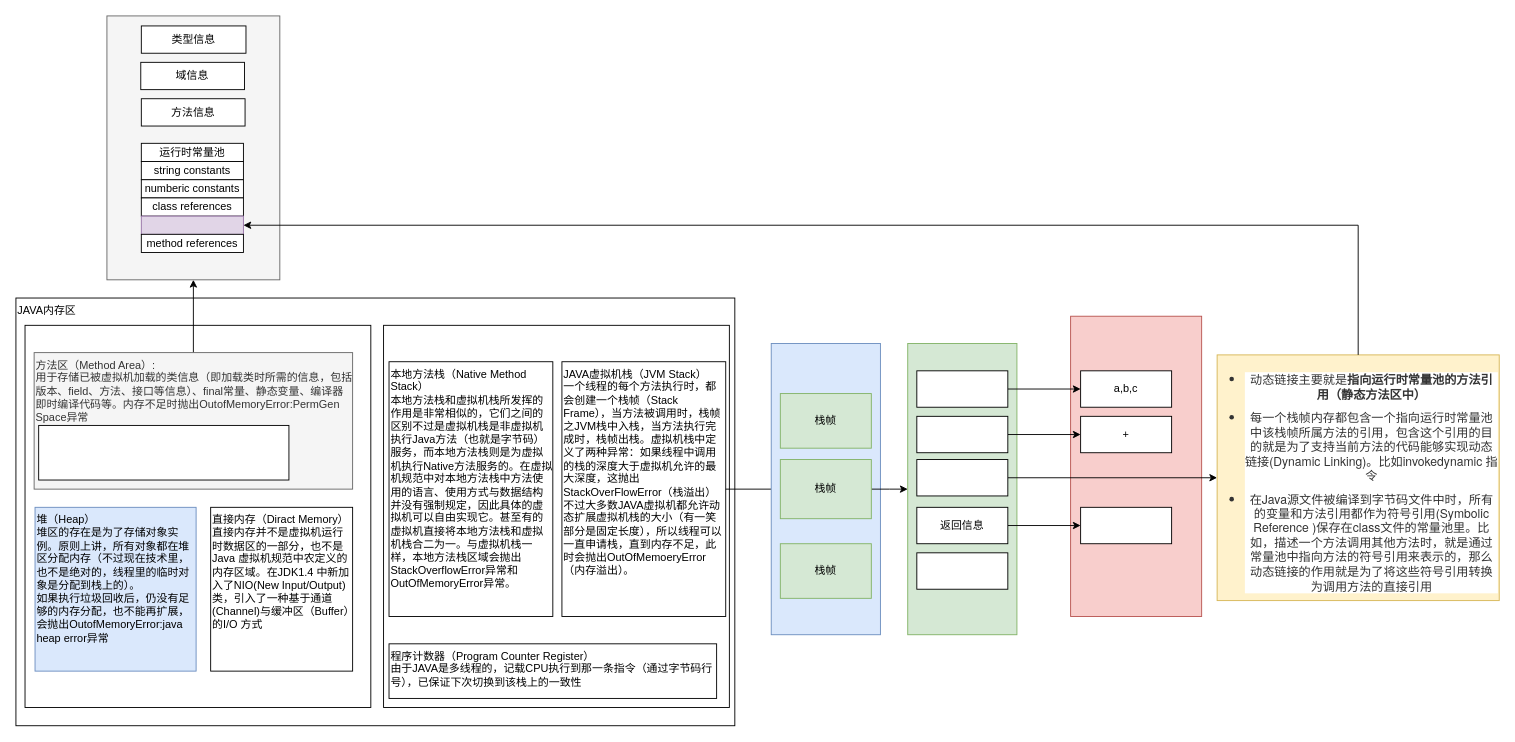
Image size: 1515x742. Some labels were removed from this diagram. Each missing label, with the box of its shape:
fields references: (140, 215, 243, 234)
int a ,b =1 c=a+b retun c: (1070, 315, 1202, 617)
return，Error返回: (1080, 506, 1172, 544)
动态链接: (916, 459, 1008, 496)
局部变量表: (916, 370, 1008, 407)
操作数栈: (916, 415, 1008, 453)
线程共享区: (24, 324, 371, 708)
线程私有区: (383, 324, 729, 708)
运行时常量池（Runtime Constant Pool）: 用于存储编辑器就生成的字面常量、符号引用、翻译出来的直接引用: (38, 425, 289, 480)
附加信息: (916, 552, 1008, 589)
